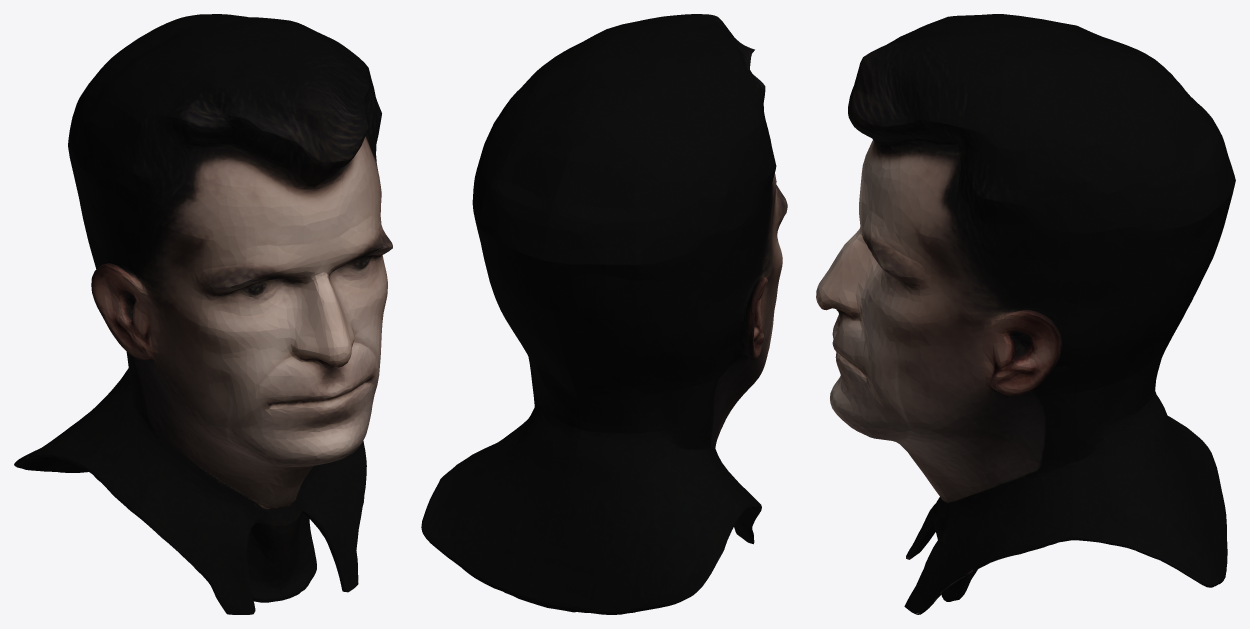
Rendered from sample.glb.
The picture shows the model from 3 angles, left to right: view 1: azimuth 30°, elevation 25°; view 2: azimuth 150°, elevation 25°; view 3: azimuth 270°, elevation 25°; orthographic projection. The views are drawn at different scales.
Parts seen in each view (by area): view 1: world; view 2: world; view 3: world.
Part boxes in pixels (x1,y1,x2,y2): world: (14, 14, 392, 614); world: (421, 14, 787, 614); world: (816, 14, 1235, 614).
Bounding box in the file's own units: 0.5664 × 0.9969 × 0.6788.
Materials: 1 (1 with a texture image).
